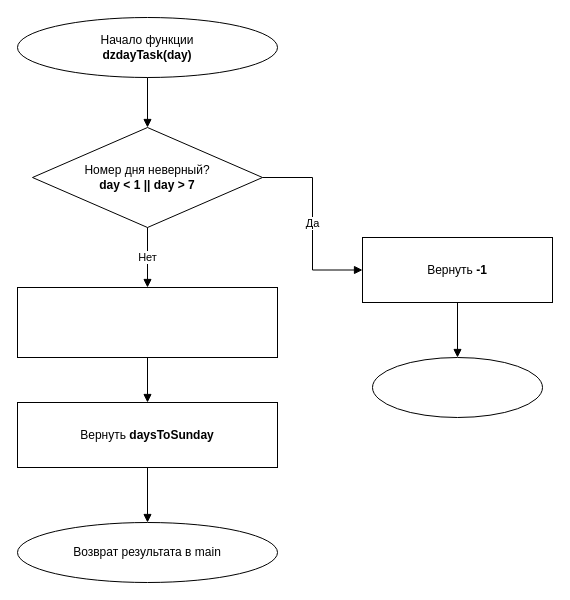
Image size: 570x600. Some labels were removed from this diagram. Each missing label, with the centre of its shape:
"Возврат в main (ошибка)" goes at (457,387).
"Вычислить: daysToSunday = 7 - day" goes at (147,322).
